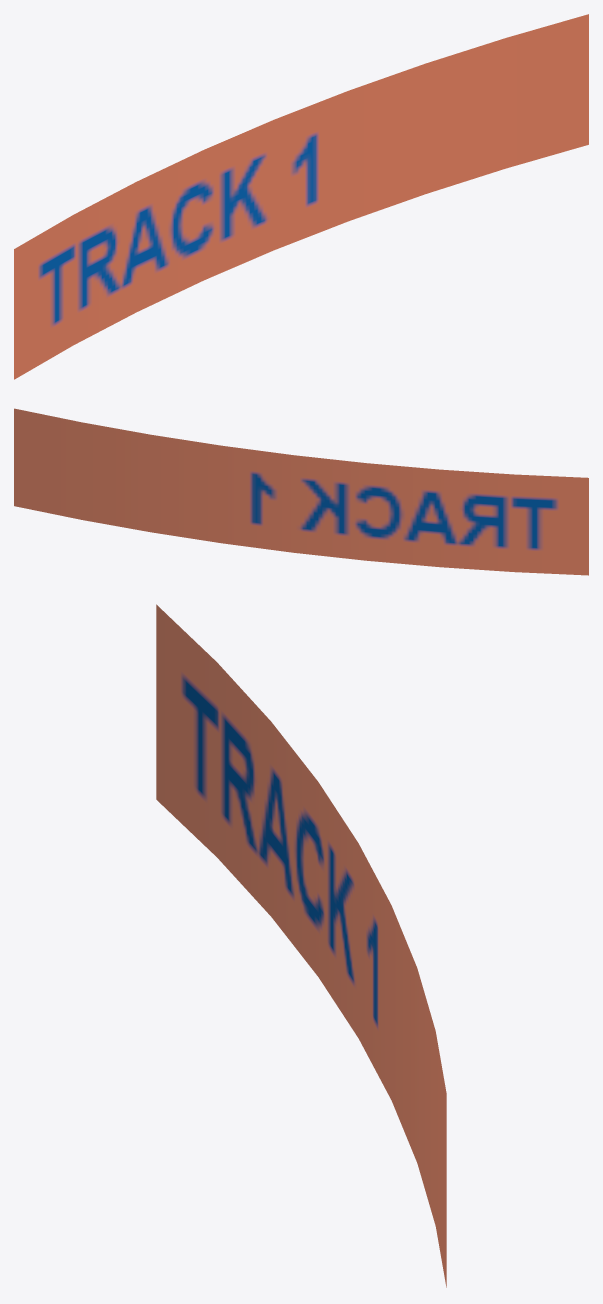
Rendered from track1_selected.glb.
The picture shows the model from 3 angles, top to bottom: view 1: azimuth 30°, elevation 25°; view 2: azimuth 150°, elevation 25°; view 3: azimuth 270°, elevation 25°; orthographic projection. The views are drawn at different scales.
Parts seen in each view (by area): view 1: menu_2_tr1; view 2: menu_2_tr1; view 3: menu_2_tr1.
Boxes of the visible parts, <box> form: menu_2_tr1: <box>14,14,588,379</box>; menu_2_tr1: <box>14,408,588,575</box>; menu_2_tr1: <box>156,604,446,1287</box>.
Size of the model in its own units: 2.74 by 0.509 by 0.6864.
1 material, 1 textured.
